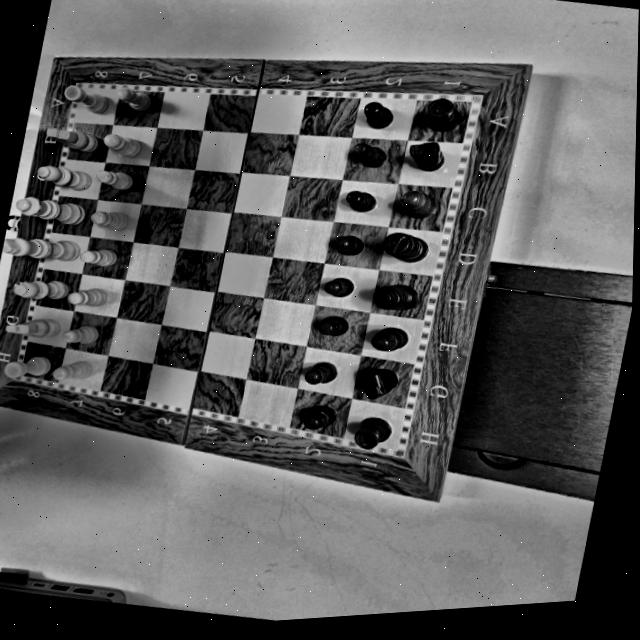black-bishop: (391, 184, 446, 224), (364, 319, 417, 359)
black-king: (374, 222, 437, 272)
black-knight: (353, 359, 408, 409), (402, 134, 447, 178)
black-pawn: (291, 394, 343, 439), (332, 181, 387, 223), (354, 93, 409, 135), (321, 222, 373, 263), (316, 267, 367, 306), (309, 304, 355, 345), (347, 134, 393, 174), (296, 356, 346, 391)
black-queen: (365, 276, 432, 318)
black-rook: (416, 90, 468, 138), (349, 411, 396, 455)
white-bishop: (6, 268, 69, 309), (33, 157, 96, 196)
white-king: (0, 225, 82, 272)
white-knight: (41, 121, 102, 159), (3, 308, 63, 346)
white-pawn: (97, 125, 154, 164), (86, 202, 137, 237), (49, 354, 95, 392), (59, 314, 104, 351), (75, 242, 126, 274), (64, 280, 112, 314), (91, 164, 138, 197), (114, 82, 157, 117)
white-queen: (7, 185, 92, 234)
white-rook: (57, 77, 119, 126), (0, 348, 54, 388)
